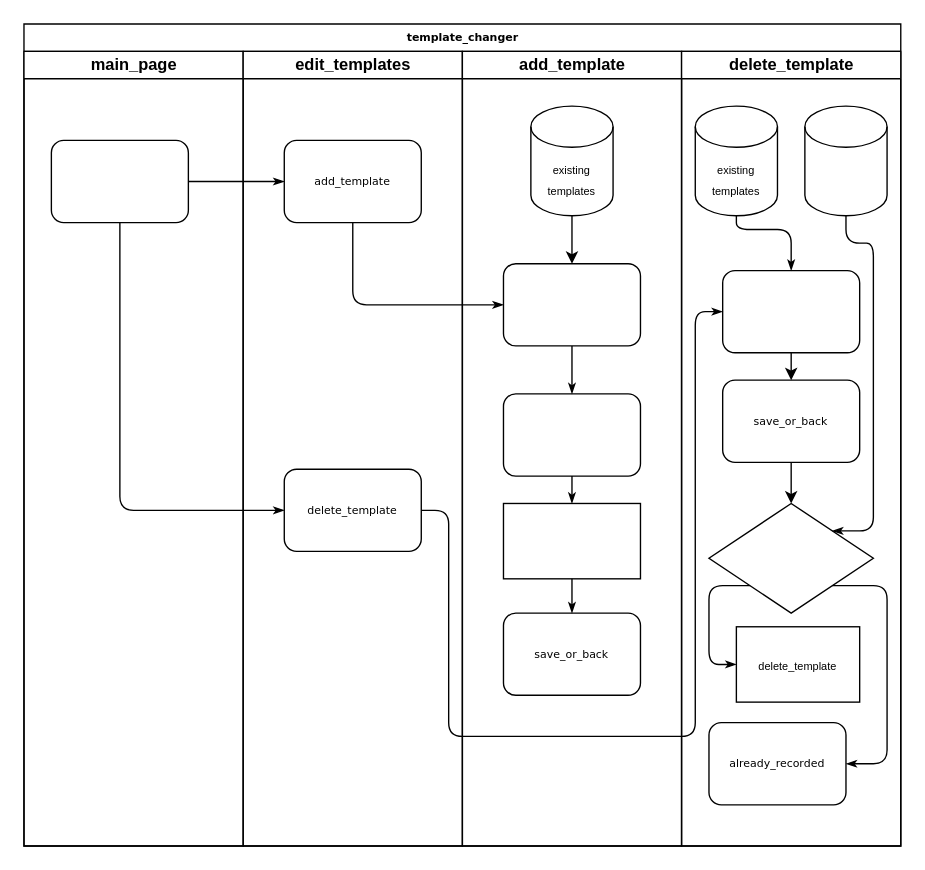
Image size: 925x870. Some labels were removed from this diagram. The centre of each missing label's shape, as x and y in pixels:
add_new_elements: (571,434)
check_if_not_doubled: (571,540)
edit templates: (119,181)
existing types: (845,160)
exists_in_database?: (790,557)
select_base_template: (571,304)
select_template: (790,311)
